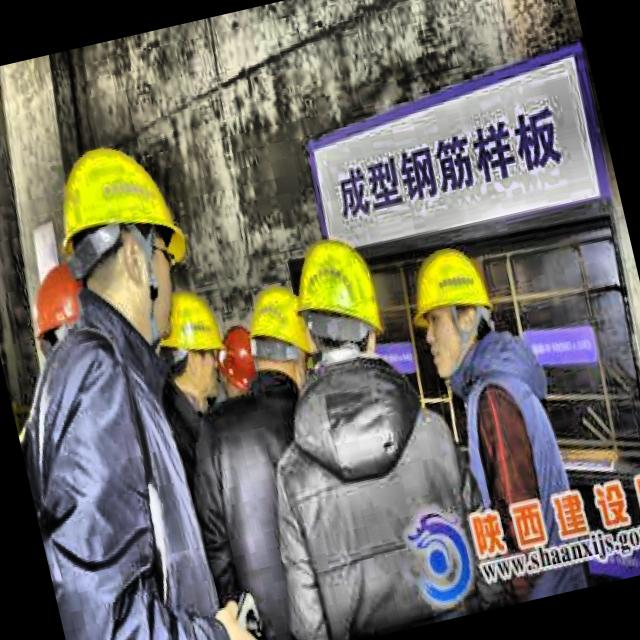helmet: (46, 130, 208, 358), (282, 228, 394, 376), (400, 235, 506, 388), (240, 277, 326, 402), (151, 283, 233, 405), (19, 253, 105, 366), (208, 319, 270, 402)
